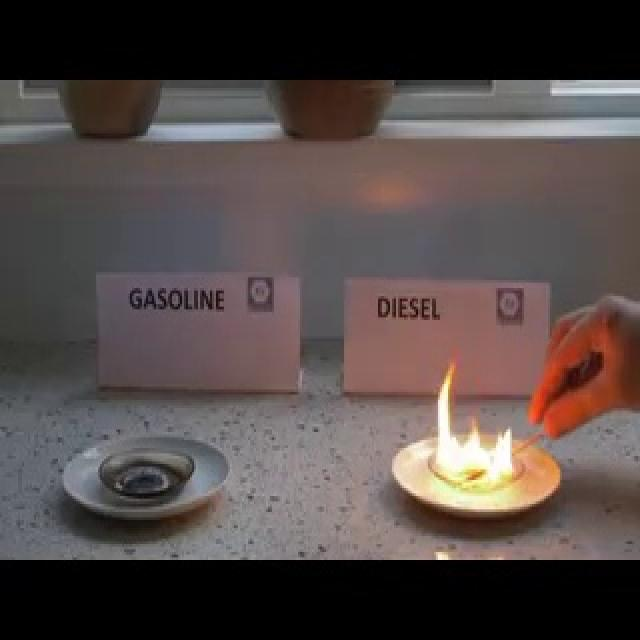fire: (433, 350, 520, 488)
